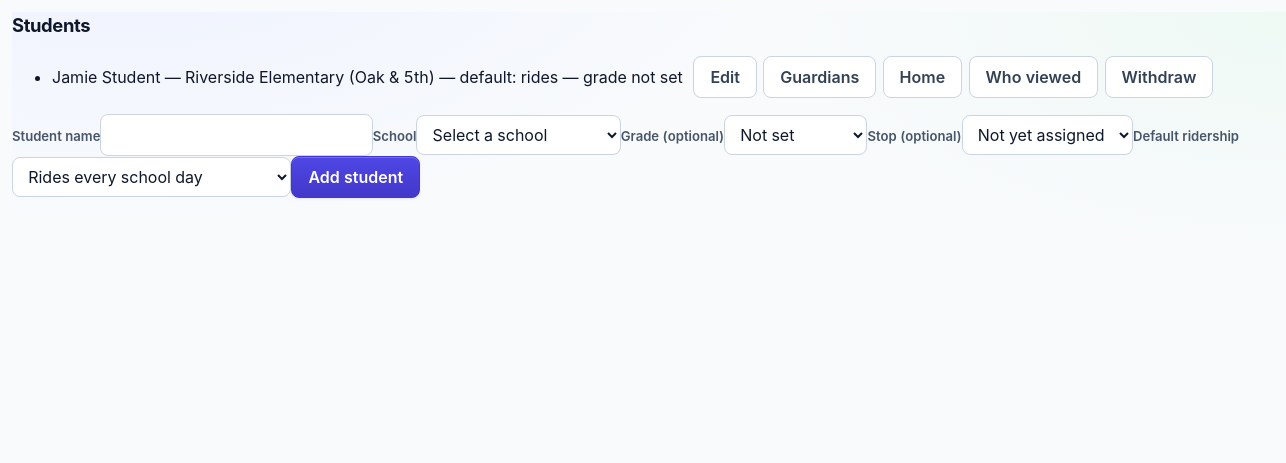
Test: StudentsSection › says when no parent account can see the student yet
Click the button "Guardians": coordinates (820, 77) left=763, top=56, right=876, bottom=98
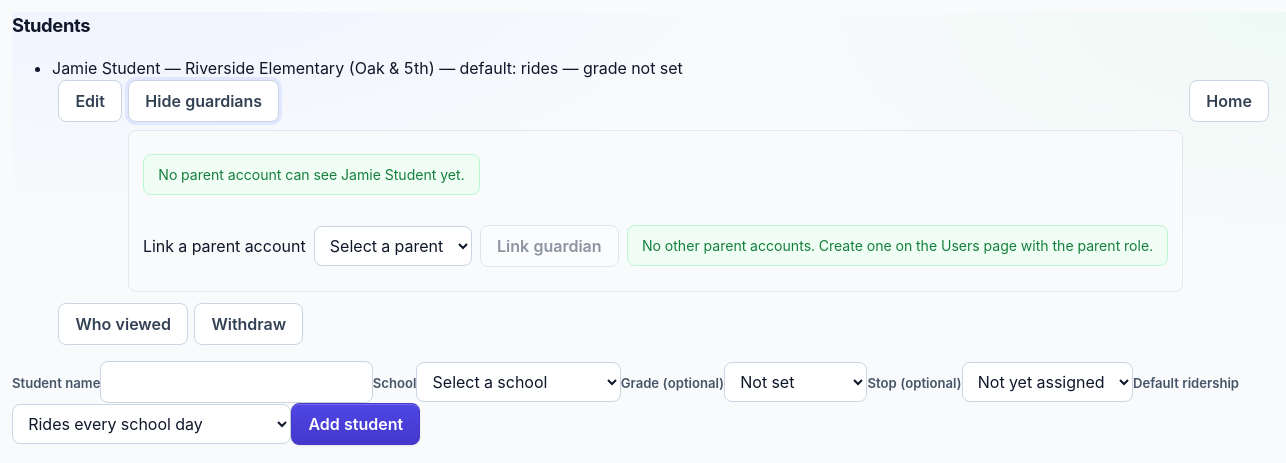
Expected: the text "No parent account can see Jamie Student yet." is shown, left=143, top=154, right=480, bottom=195
Expected: the text "Create one on the Users page" is shown, left=642, top=237, right=1153, bottom=254
